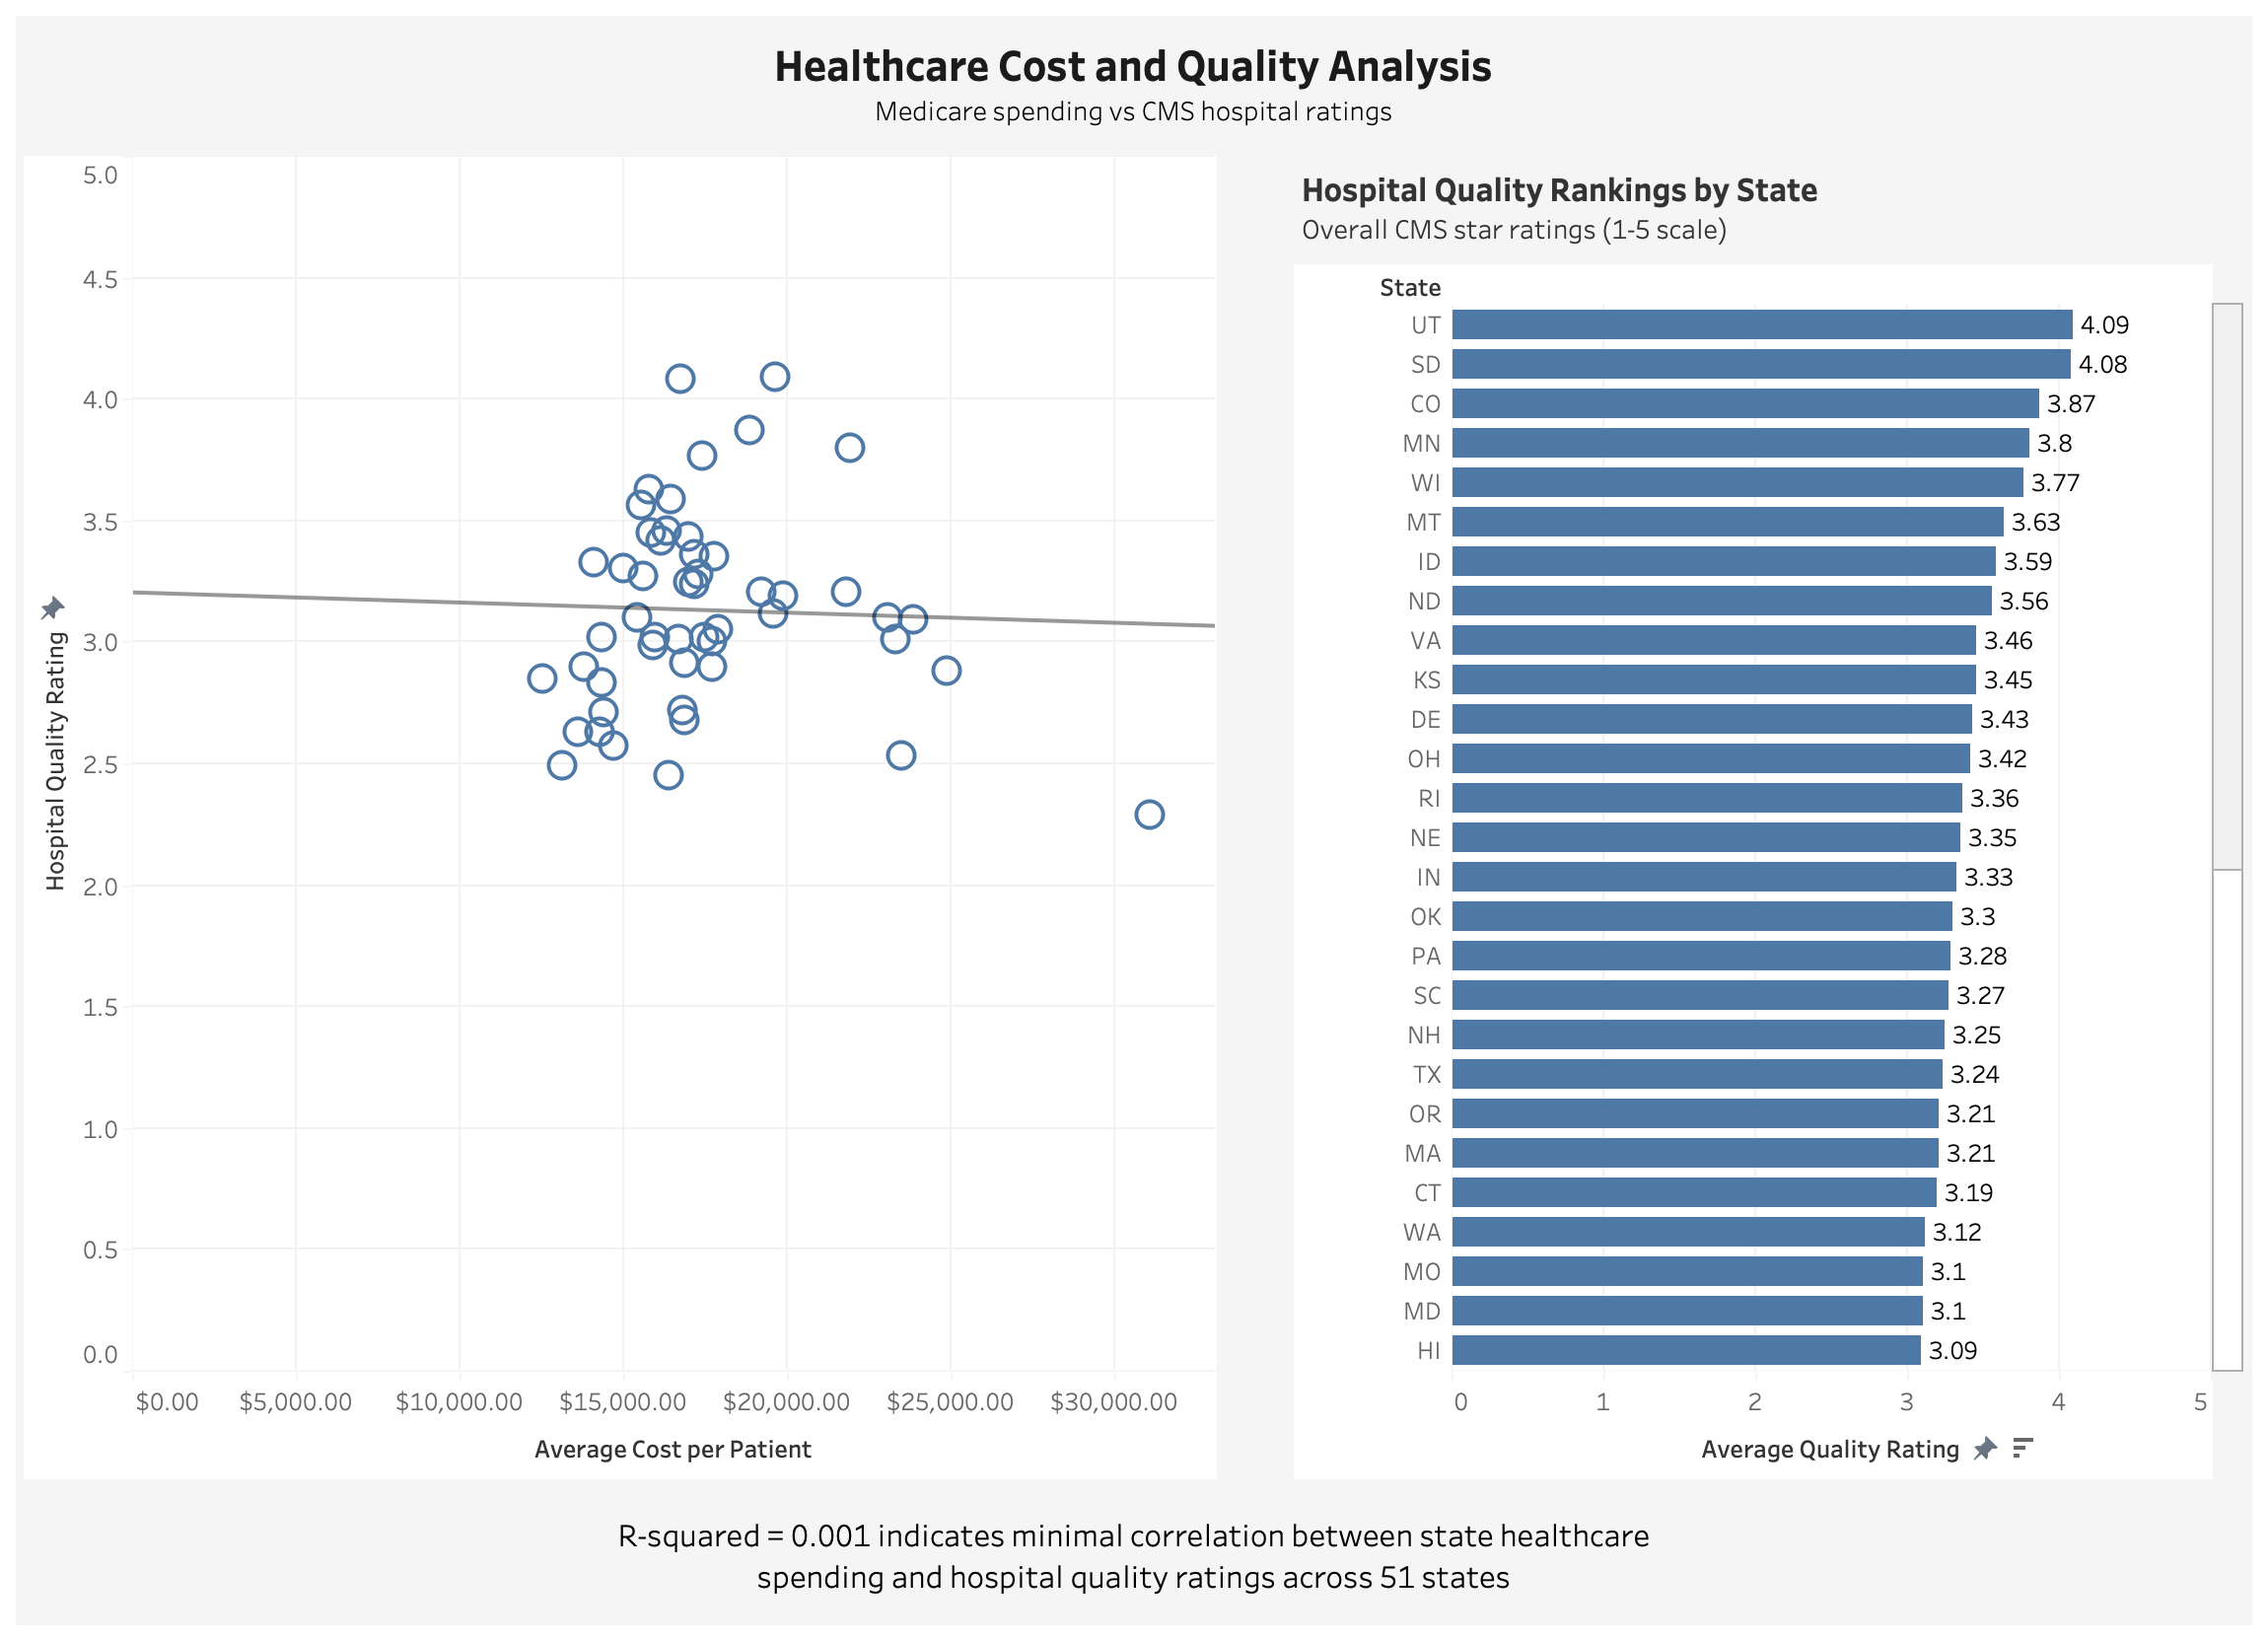

The dashboard page shown, as its layout file describes it:
{"tool":"tableau","page":{"name":"Dashboard 2 - Cost vs Quality","canvas":[1000,1000],"units":"permille","ordinal":1},"visuals":[{"type":"text","box":[7,9.6,986.1,80.1]},{"type":"worksheet","title":"Scatter - Cost vs Quality","mark":"Automatic","rows":["avg_quality_rating"],"cols":["avg_payment"],"box":[7,89.8,532.2,816.4]},{"type":"legend","title":"Scatter - Cost vs Quality","param":"[federated.1lvopi00sv3zt41fwpk7c0tkjrwn].[none:Calculation_4387581881995265:nk]","box":[539.1,89.8,27.8,816.4]},{"type":"worksheet","title":"Bar - Quality Rankings","mark":"Automatic","rows":["state"],"cols":["avg_quality_rating"],"box":[567,89.8,426.1,816.4]},{"type":"text","box":[7,906.2,986.1,84.2]}]}

Visuals, with their boxes on the dashboard's canvas, which has no fixed pixel size, in thousandths of its width and height (x1, y1, x2, y2). These are canvas units, not pixel positions in the 2268x1641 screenshot, which may show the page scaled, cropped or inside an application window:
text: {"left": 7, "top": 10, "right": 993, "bottom": 90}
"Scatter - Cost vs Quality" worksheet: {"left": 7, "top": 90, "right": 539, "bottom": 906}
"Scatter - Cost vs Quality" legend: {"left": 539, "top": 90, "right": 567, "bottom": 906}
"Bar - Quality Rankings" worksheet: {"left": 567, "top": 90, "right": 993, "bottom": 906}
text: {"left": 7, "top": 906, "right": 993, "bottom": 990}
